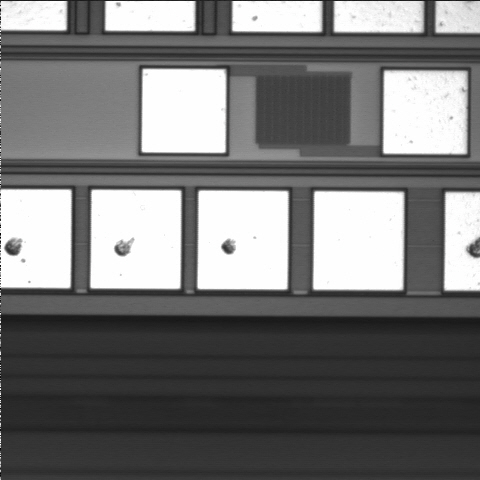pad: (313, 191, 404, 290), (91, 190, 181, 289), (198, 191, 288, 289), (142, 69, 226, 153), (383, 71, 467, 154)
